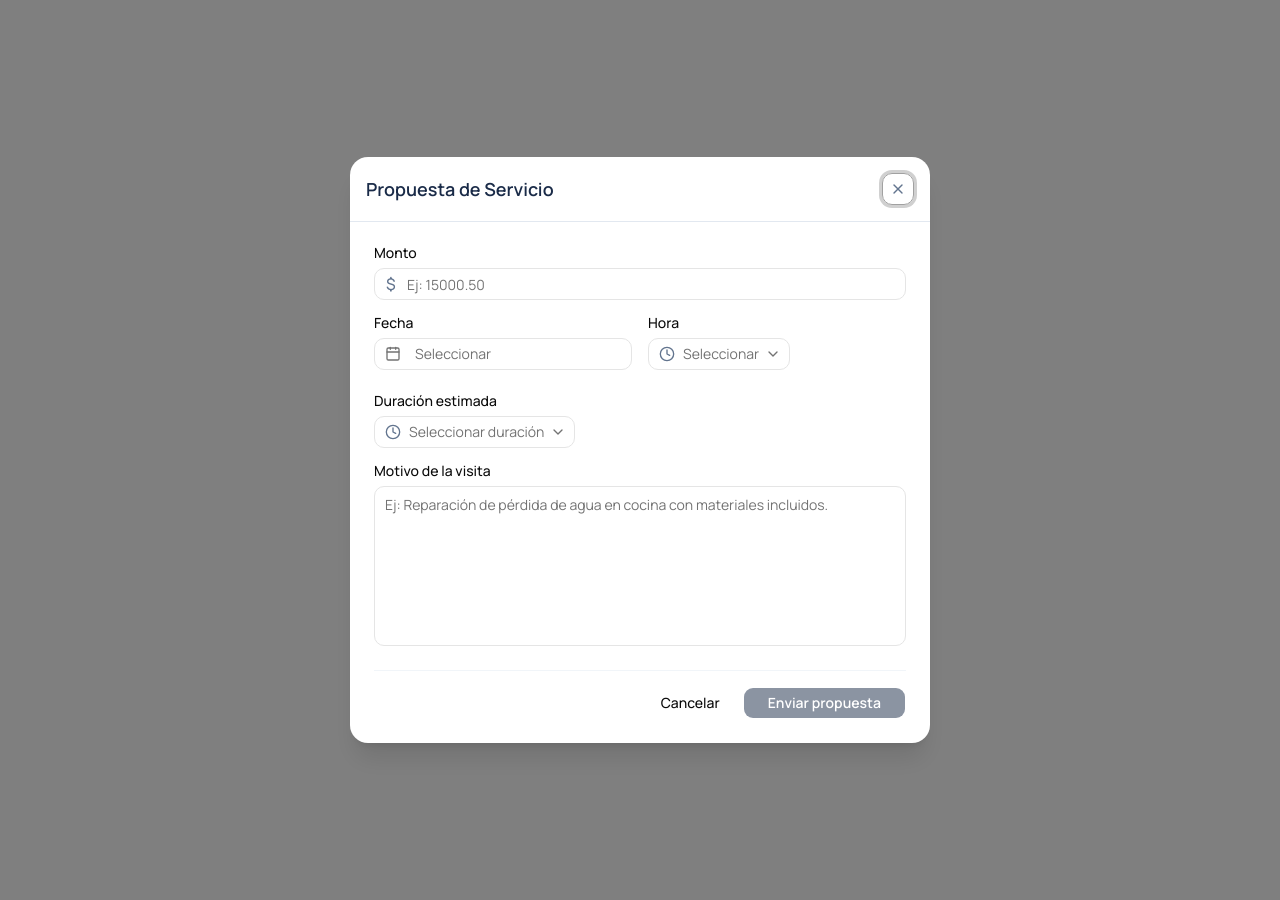
Test: ServiceProposalModal › shows validation error and disables submit when amount is <= 0
In the number field labelled "Monto": (640, 284) [374,268,906,300], type "0"
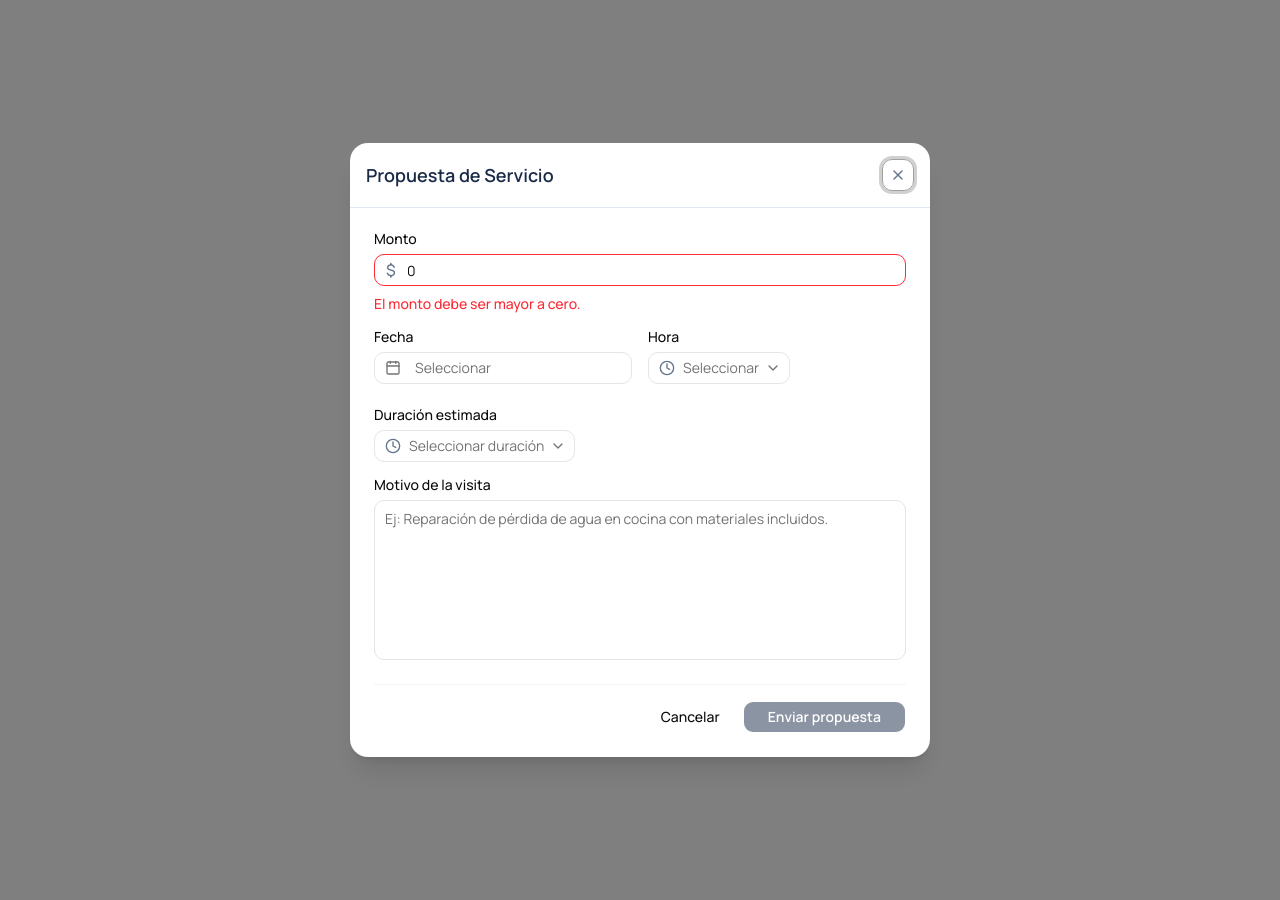
Expected: the button "Enviar propuesta" is disabled, [743,701,906,733]
Expected: the text "El monto debe ser mayor a cero." is shown, [374,294,581,313]
